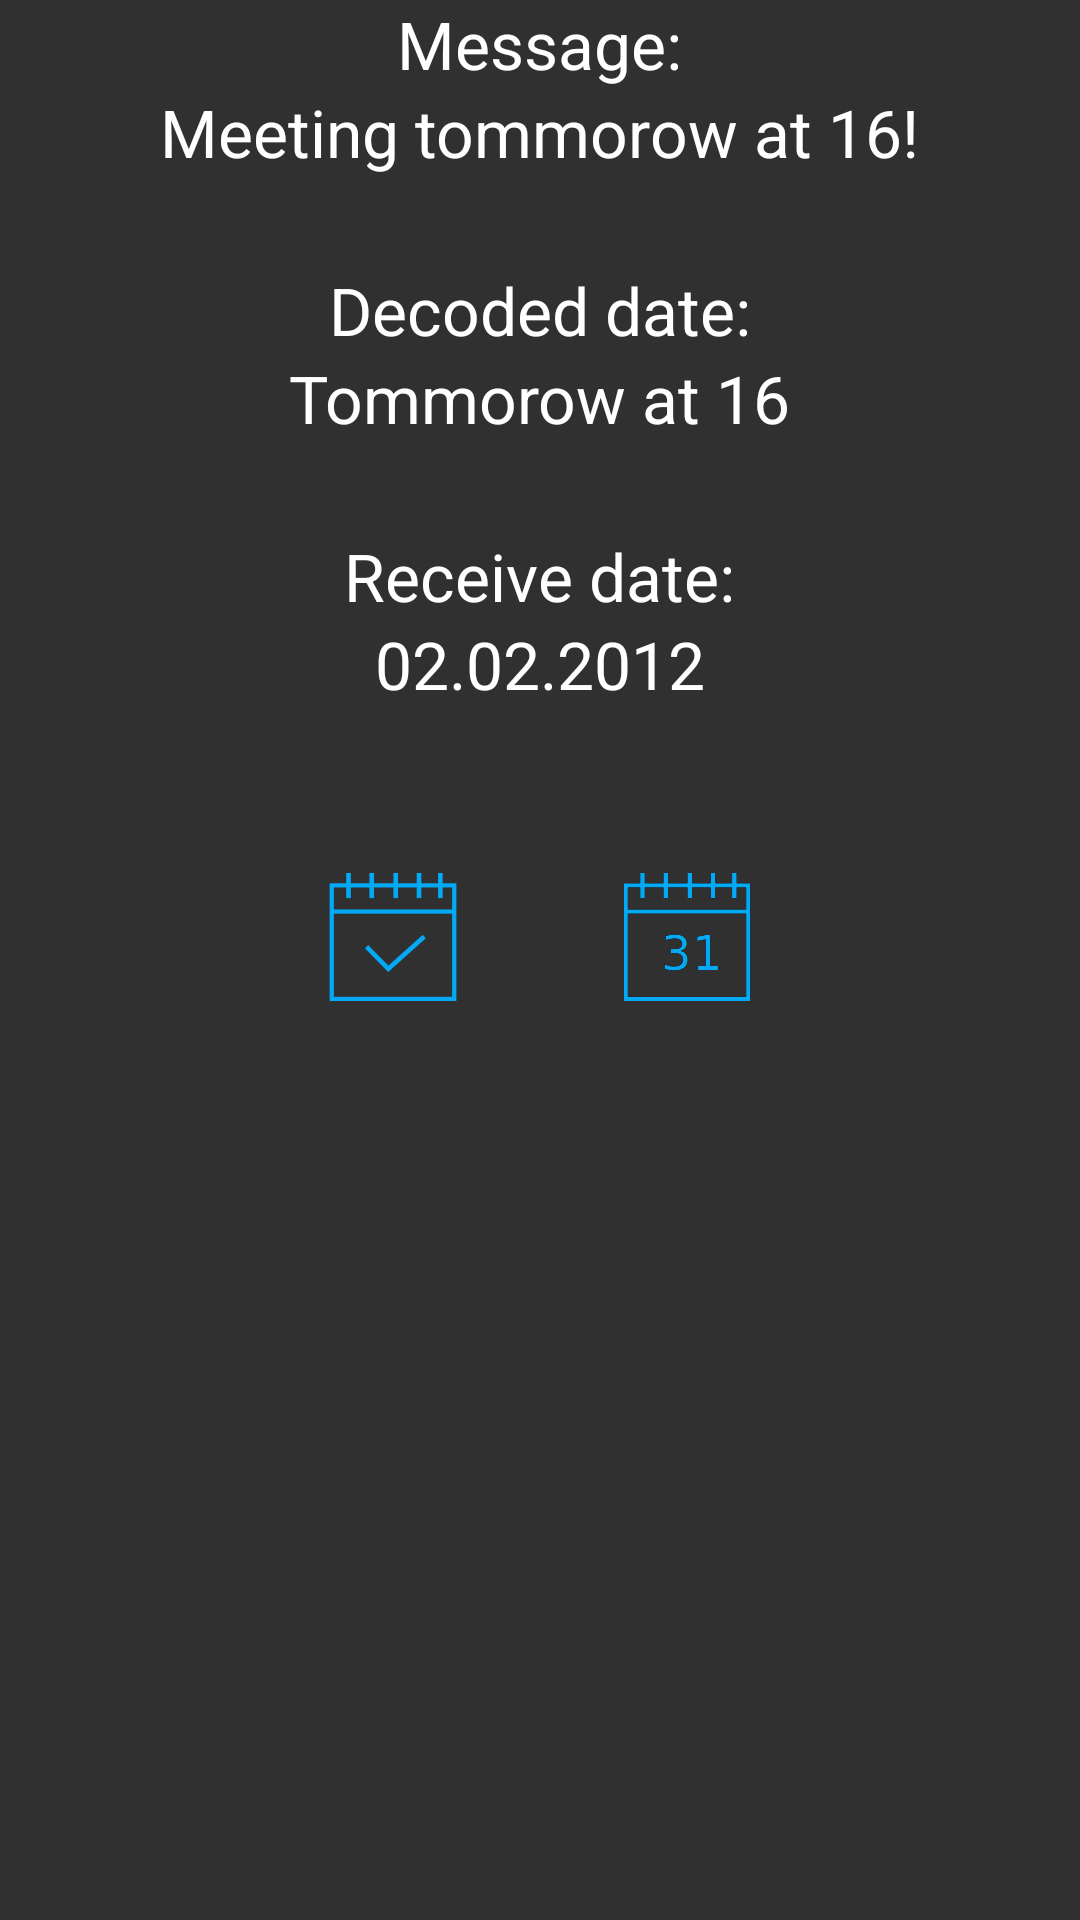

Icons on this 1080x1920 Android screen, each with the point to tap as (x=x, y=y):
calendar: (x=687, y=937)
check: (x=393, y=937)
